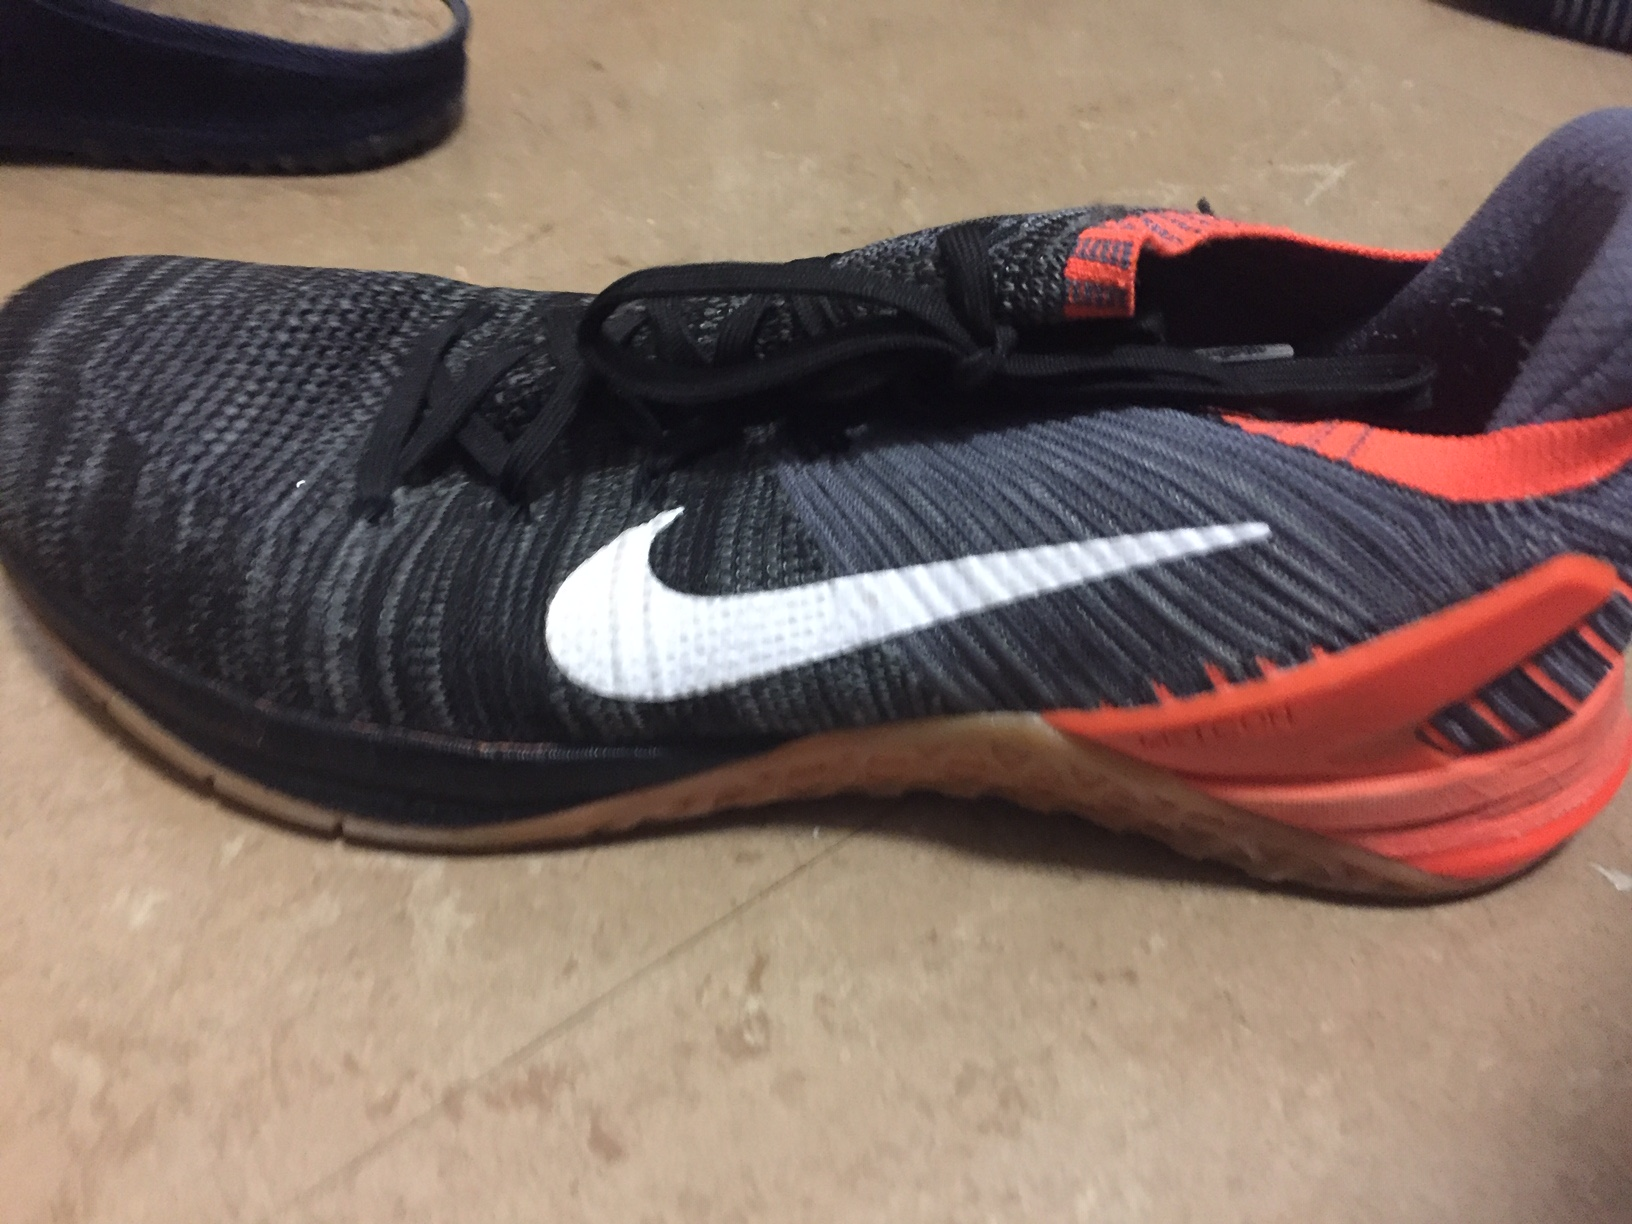car: (1, 105, 1632, 906)
